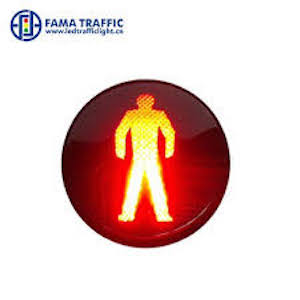red: (104, 94, 183, 219)
